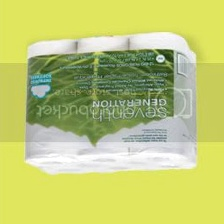tissue: (18, 27, 203, 181)
